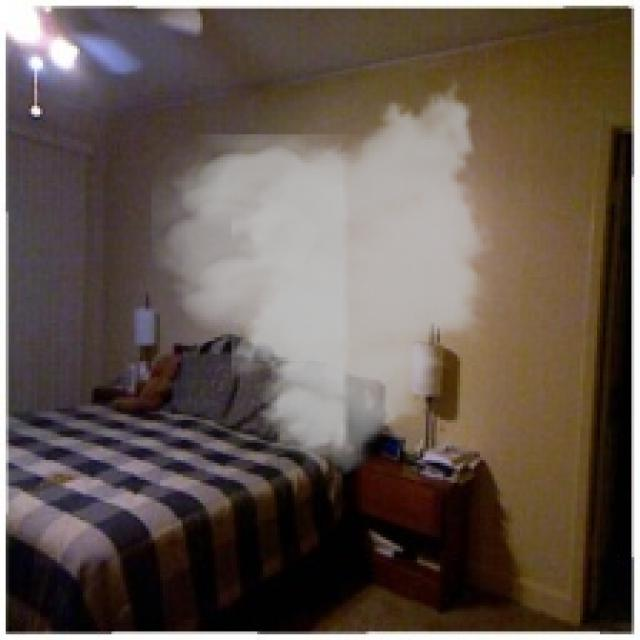smoke: (152, 71, 497, 486)
